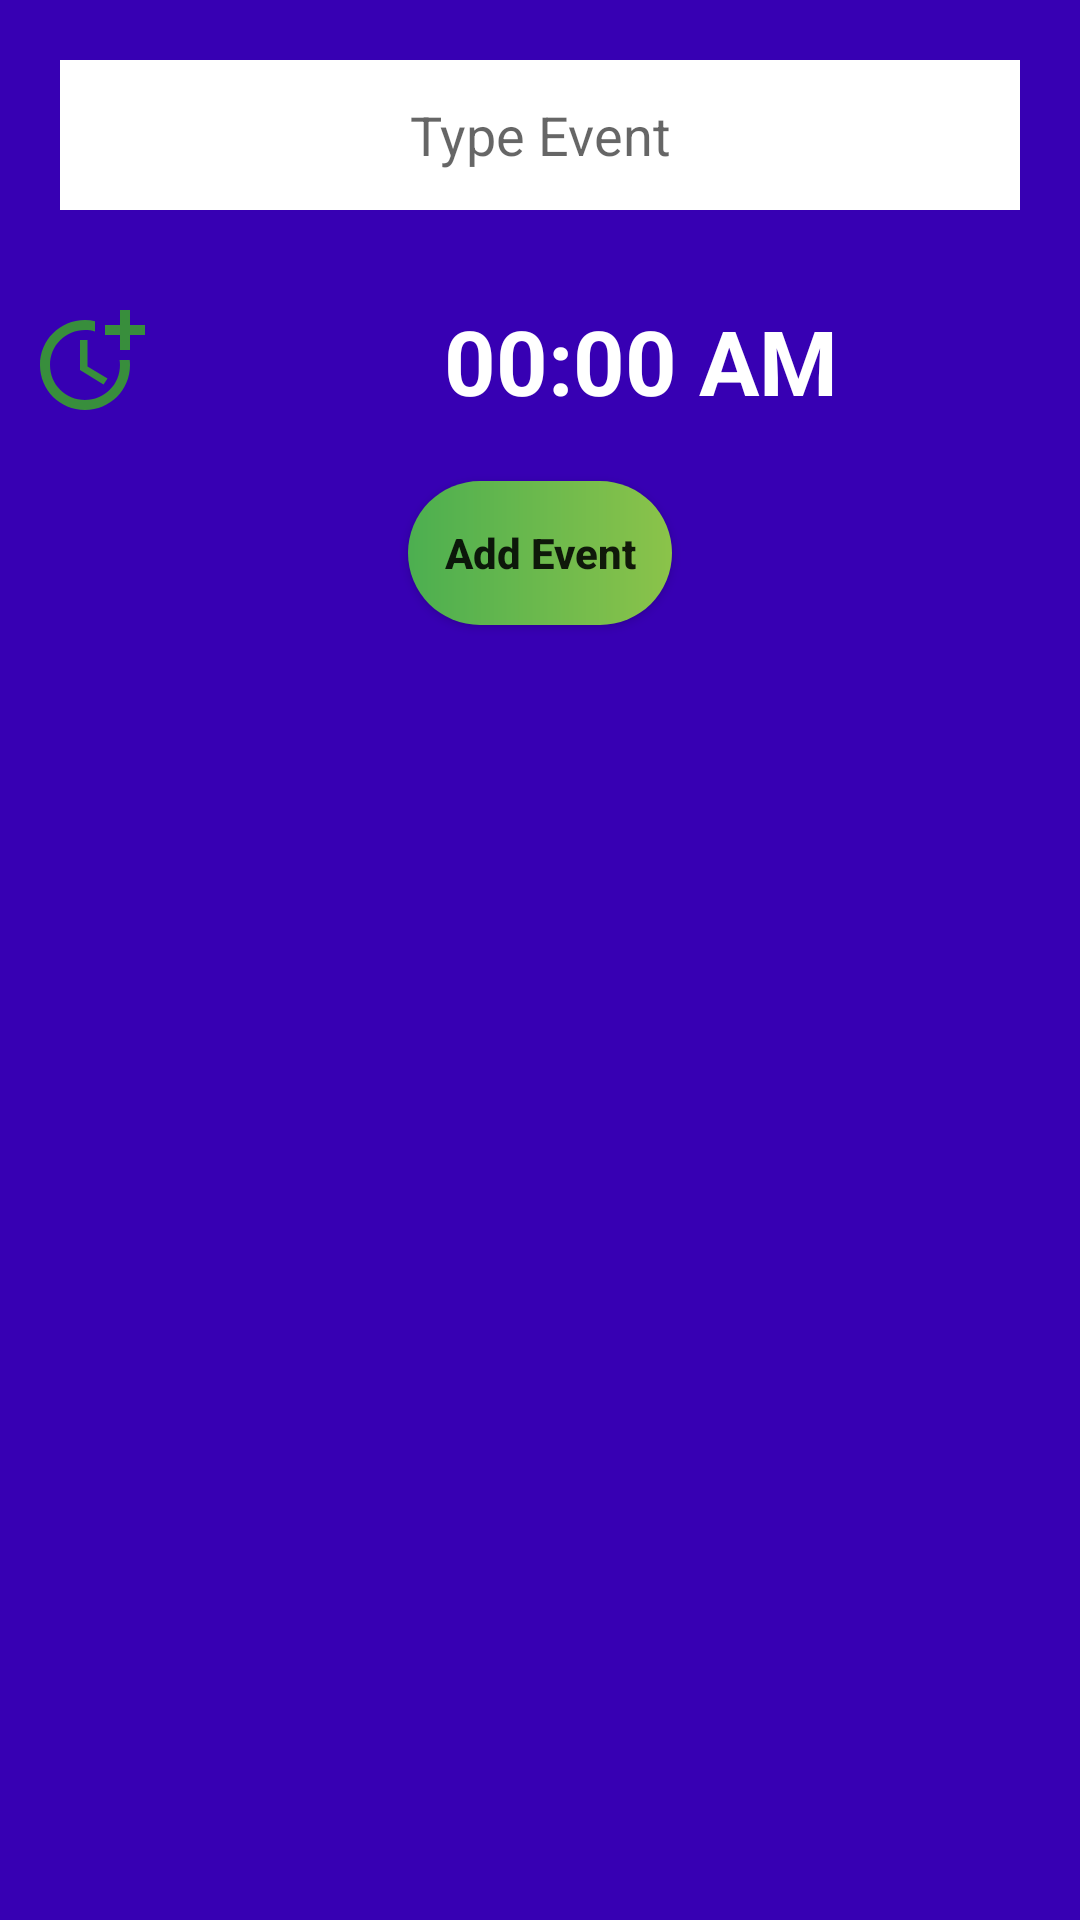

Named icons in this screenshot (1080 × 1920) and their bounding boxes, bbox=[x1, y1, x2, y2]:
more time: bbox=[40, 310, 145, 410]
